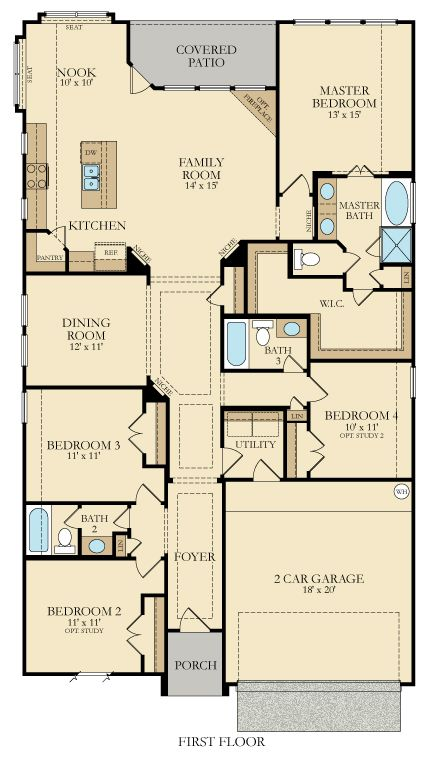door: (308, 428, 333, 472), (118, 414, 144, 451), (121, 614, 144, 651), (116, 75, 146, 98), (281, 168, 311, 191), (348, 291, 378, 314), (249, 454, 279, 475), (178, 604, 207, 625), (310, 372, 328, 402), (225, 442, 243, 472), (131, 479, 157, 498), (131, 562, 157, 581), (61, 505, 79, 531), (110, 504, 127, 531), (278, 350, 303, 368), (364, 232, 377, 258), (204, 285, 220, 306), (346, 248, 361, 270), (366, 264, 379, 284)
window: (43, 8, 110, 21), (16, 331, 33, 370), (407, 178, 420, 226), (16, 388, 31, 426), (17, 291, 32, 328), (406, 363, 420, 400), (161, 81, 197, 94), (291, 15, 328, 27), (363, 14, 400, 26), (327, 15, 364, 27), (231, 81, 268, 93), (196, 81, 233, 93), (17, 130, 31, 157), (17, 194, 31, 221)
